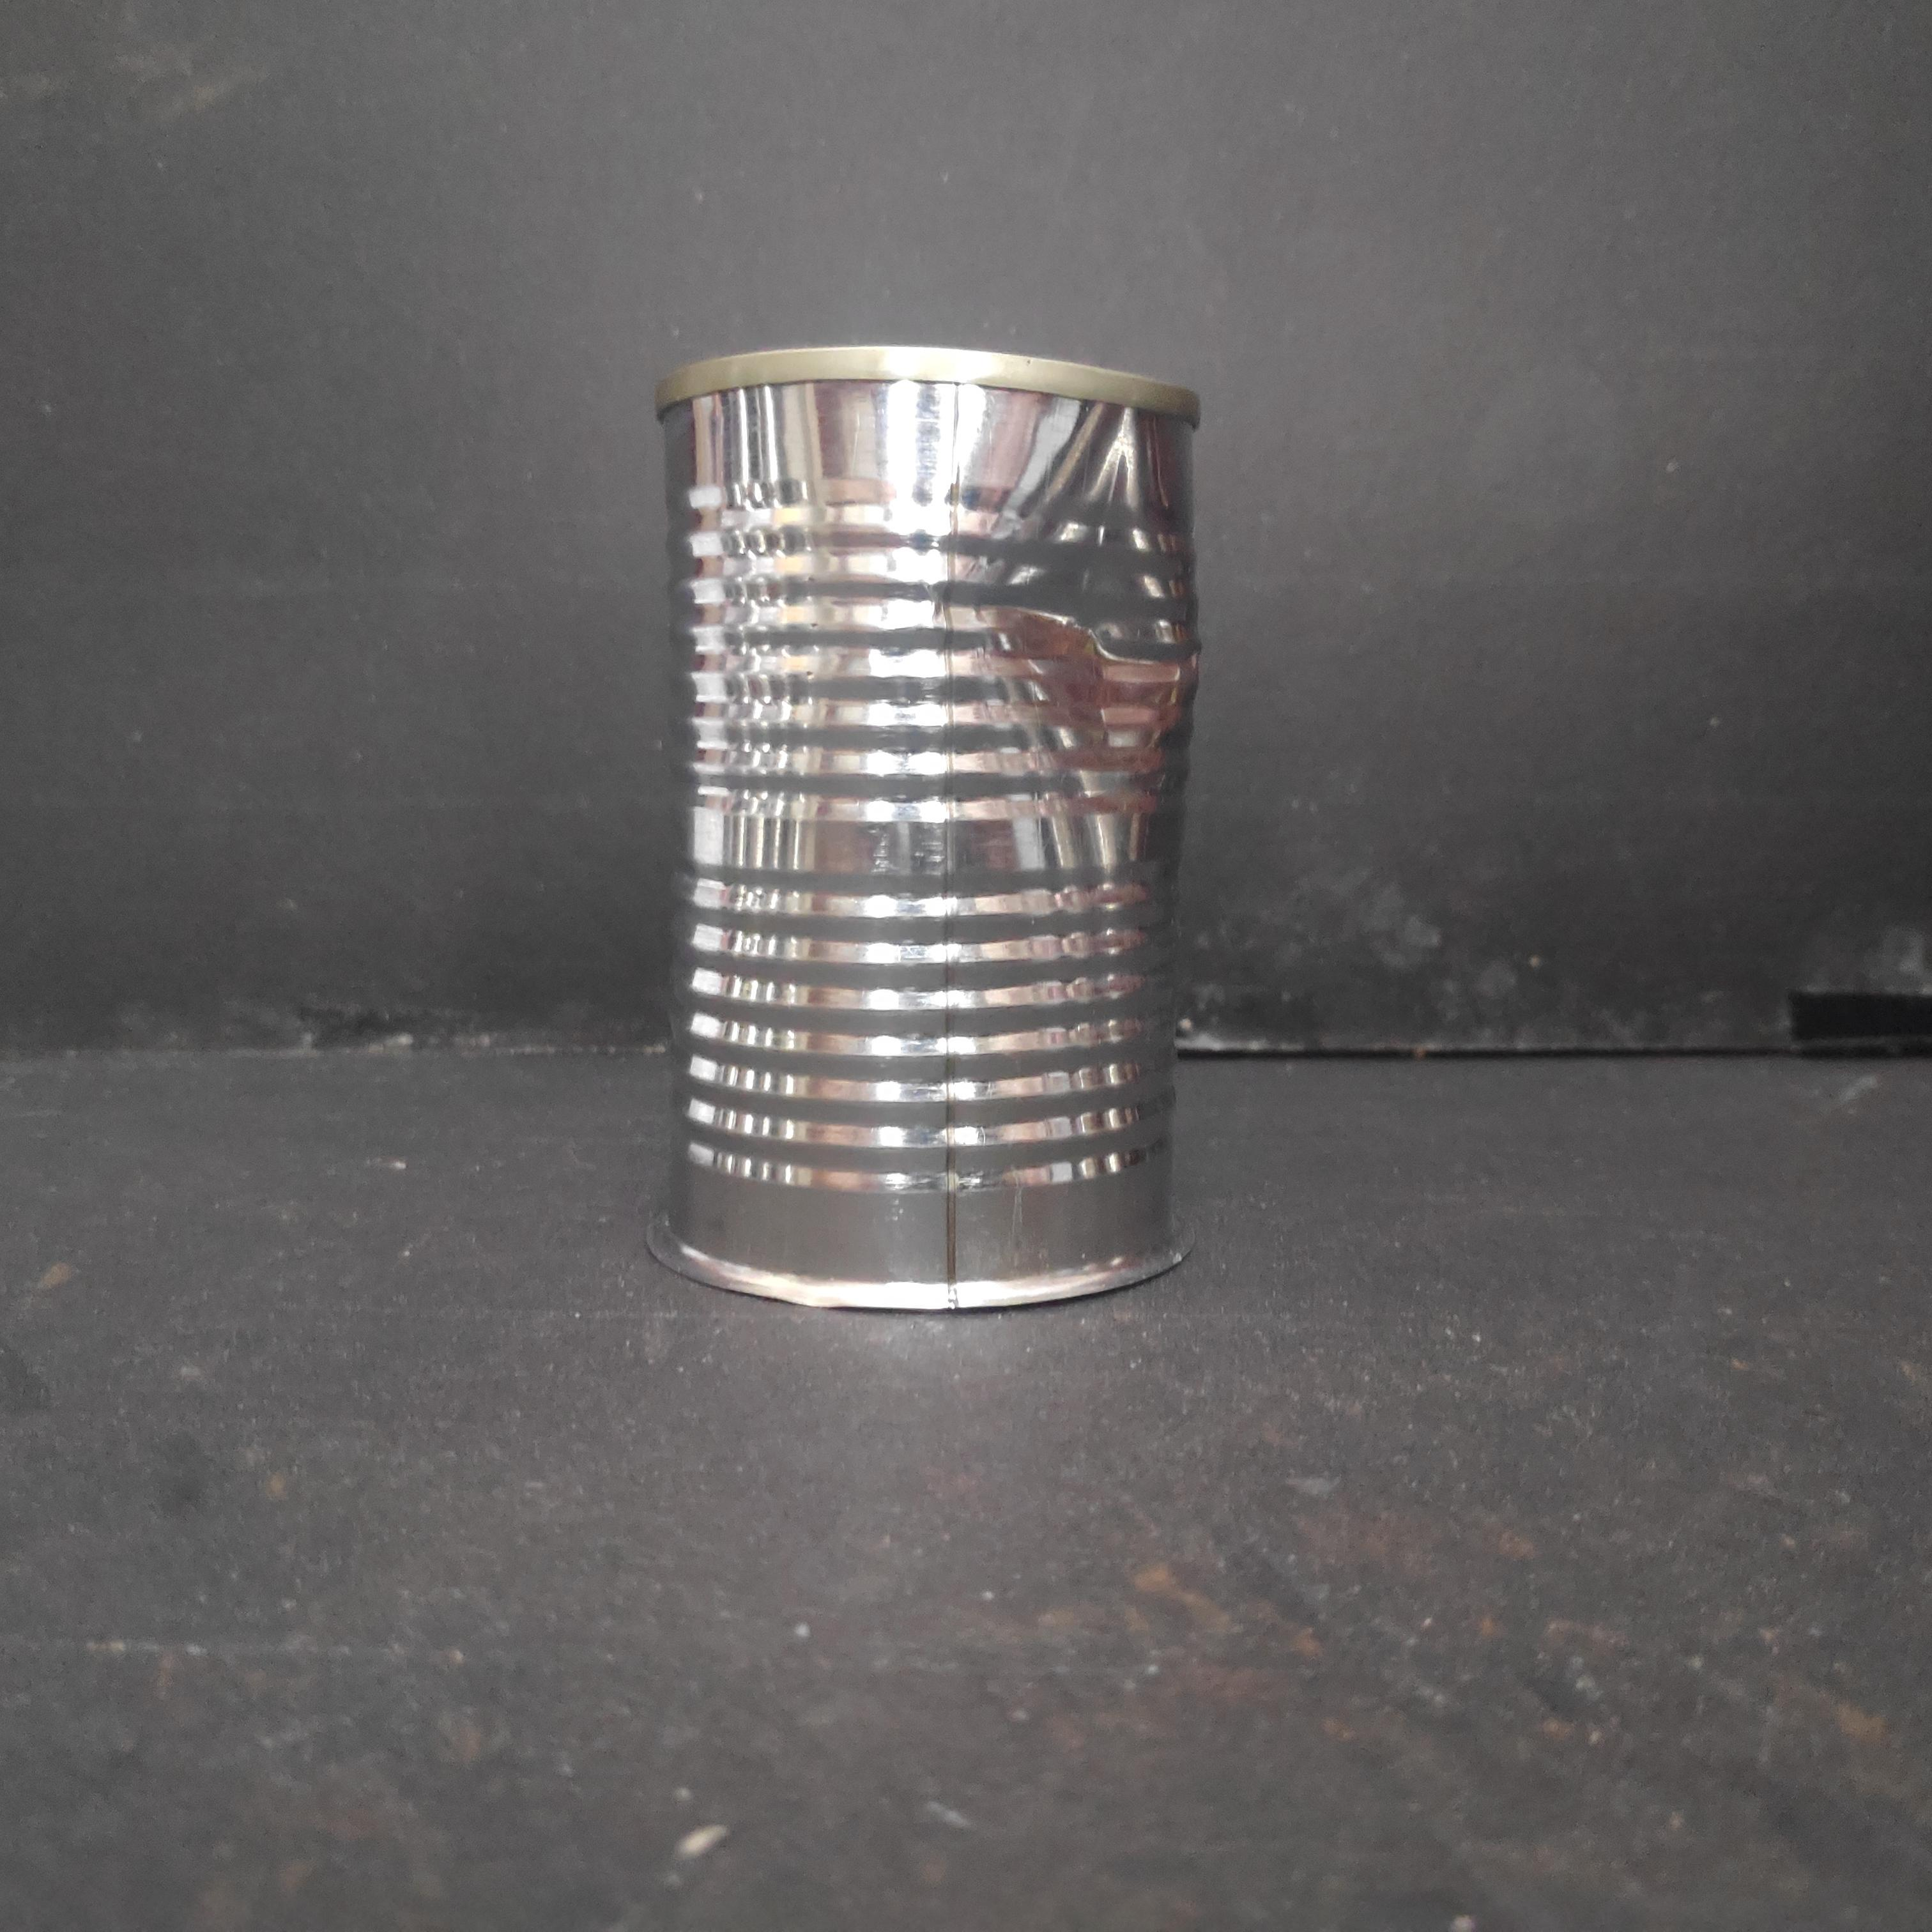Minor Defect: (644, 329, 1233, 1329)
